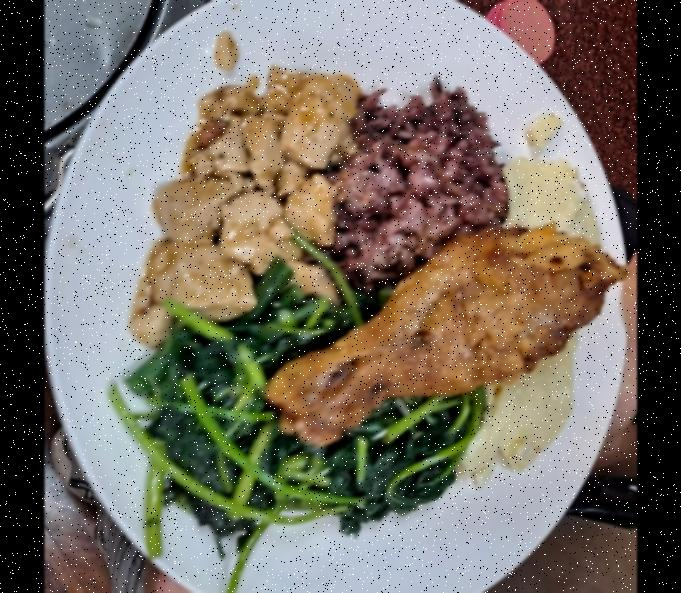plate: (44, 0, 627, 593)
purple rice: (330, 88, 504, 278)
side dish: (126, 286, 476, 534), (128, 73, 360, 340), (465, 142, 596, 480)
small grilled chicken leg: (264, 219, 626, 441)
